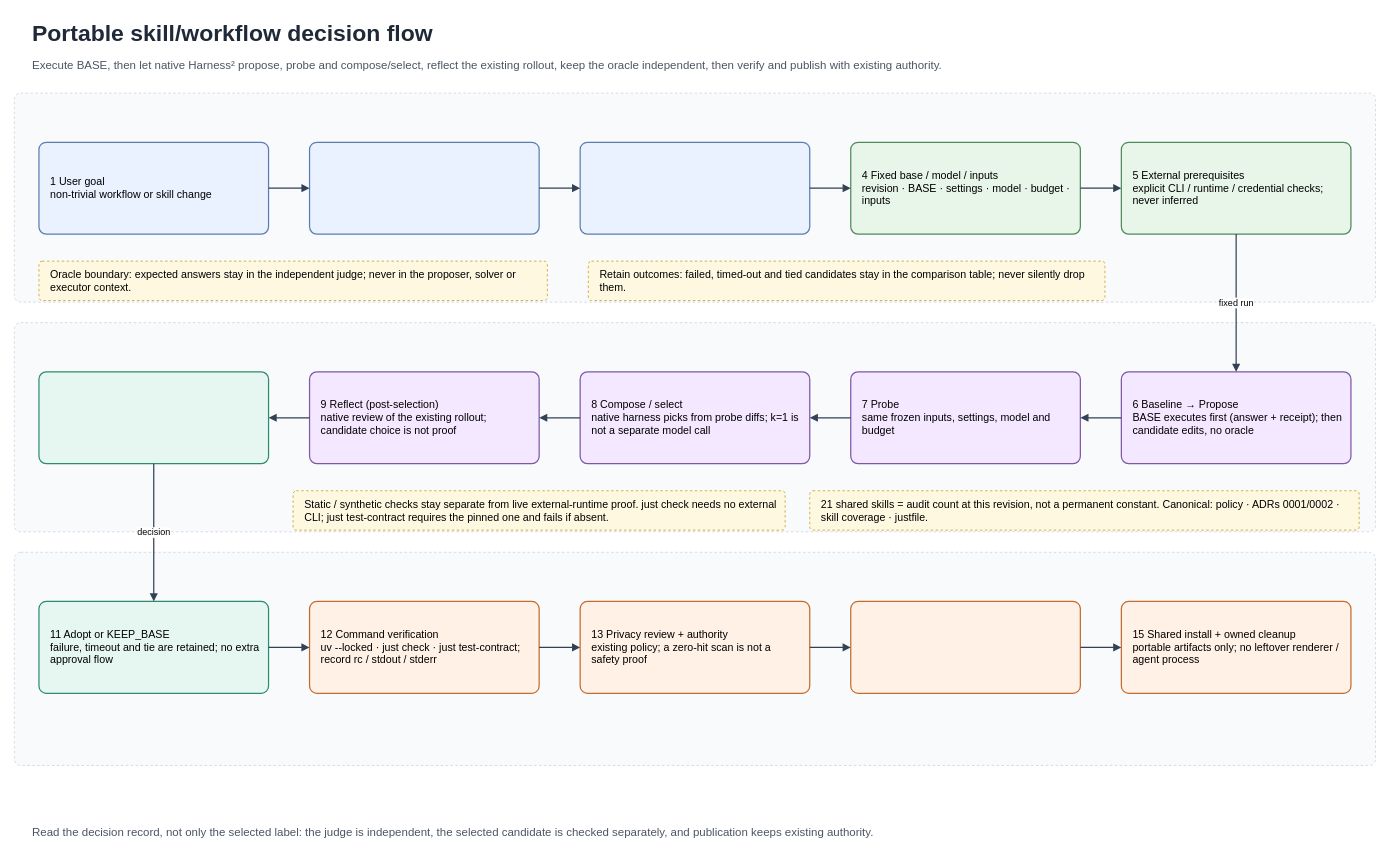
This 1390x864 diagram has some shape labels left out. The box of each missing label's shape, as (x1, y1, x2, y2) in pixels:
1 FRAME & FREEZE: (14, 92, 1376, 302)
10 Independent judge oracle isolated from proposer / executor: (38, 371, 269, 464)
14 Commit / push + source hash publish only the generic, authorized surface: (850, 600, 1081, 694)
2 NATIVE HARNESS² LOOP → INDEPENDENT DECISION (flow right to left in this row): (14, 322, 1376, 532)
2 Workdoc goal · scope · DoD · atomic checklist: (309, 141, 539, 234)
3 Scope & discovery read policy, ADRs, coverage, current commands: (579, 141, 810, 234)
3 VERIFY & SHIP: (14, 551, 1376, 765)
